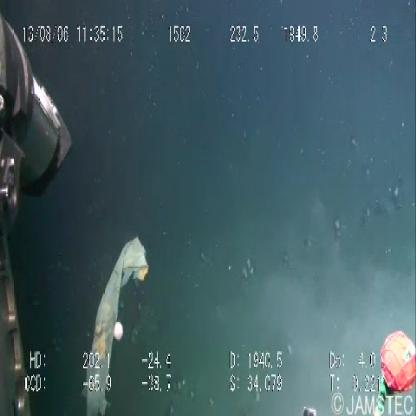Rov: (1, 3, 77, 416)
Rác: (76, 228, 156, 416)
